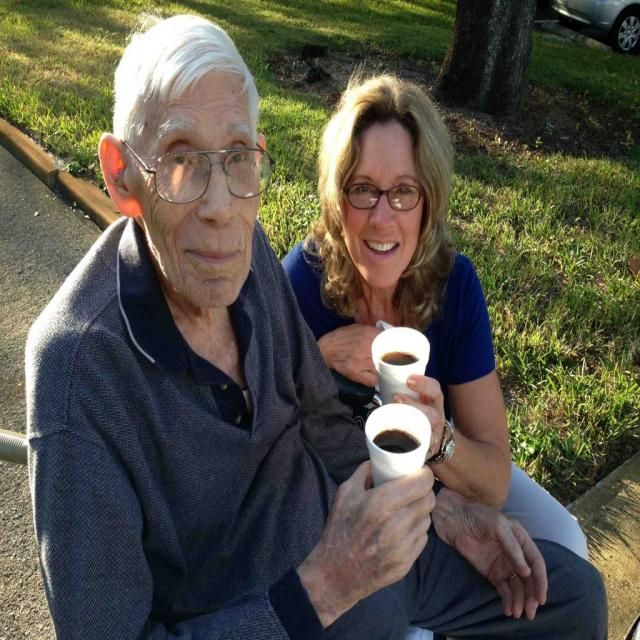Coffee: (372, 426, 418, 456), (376, 350, 422, 368)
